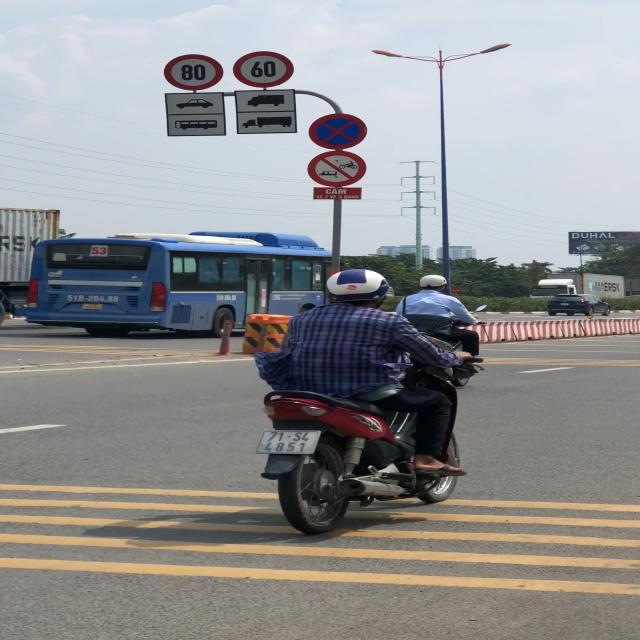Bien bao cam dung xe va do xe: (300, 109, 367, 148)
Bien bao toc do toi da cho phep: (158, 51, 230, 93), (230, 48, 296, 89)
